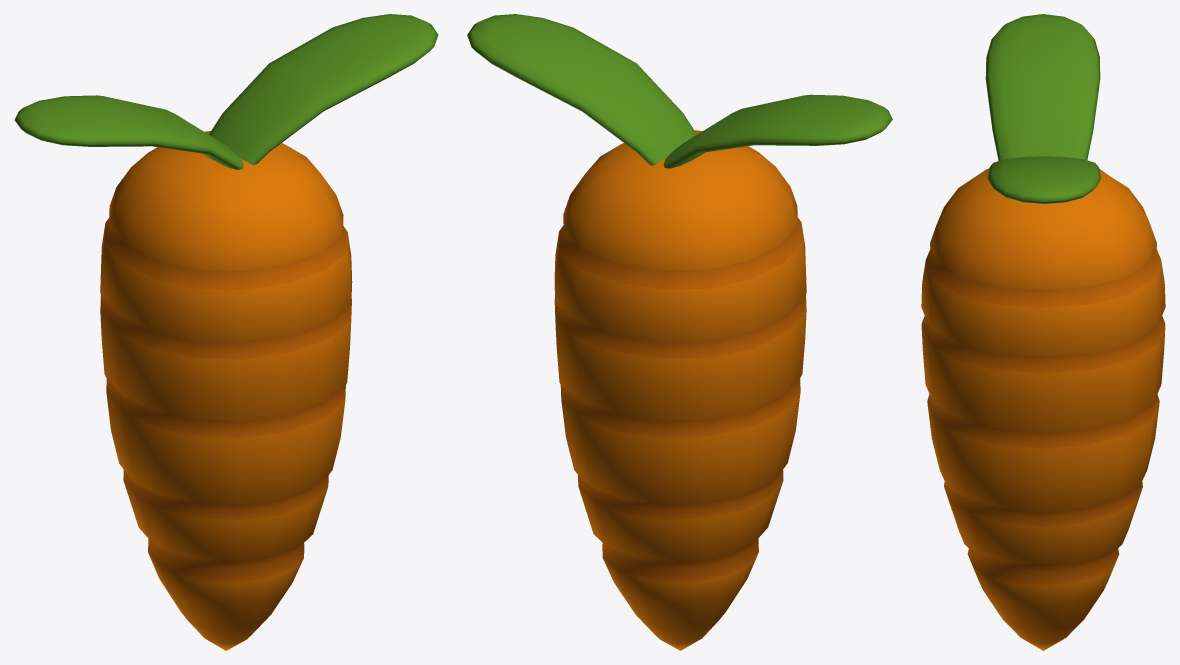
The model's file is prop37.fbx.
3 renders of one model, left to right at view 1: azimuth 30°, elevation 25°; view 2: azimuth 150°, elevation 25°; view 3: azimuth 270°, elevation 25°, orthographic. The views are drawn at different scales.
Visible parts, largest first — view 1: Cube.083; view 2: Cube.083; view 3: Cube.083.
Part boxes in pixels (left/top/right/bottom): Cube.083: left=14, top=14, right=438, bottom=650; Cube.083: left=467, top=14, right=892, bottom=650; Cube.083: left=921, top=14, right=1165, bottom=650.
Size of the model in its own units: 0.4678 by 0.2547 by 0.633.
